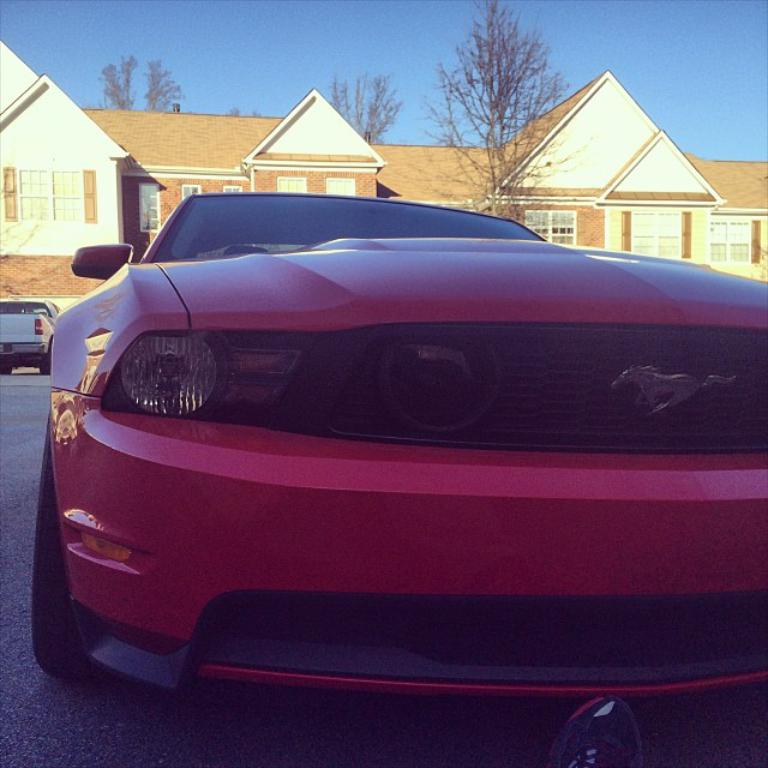Car: (26, 187, 766, 766), (0, 295, 61, 378)
